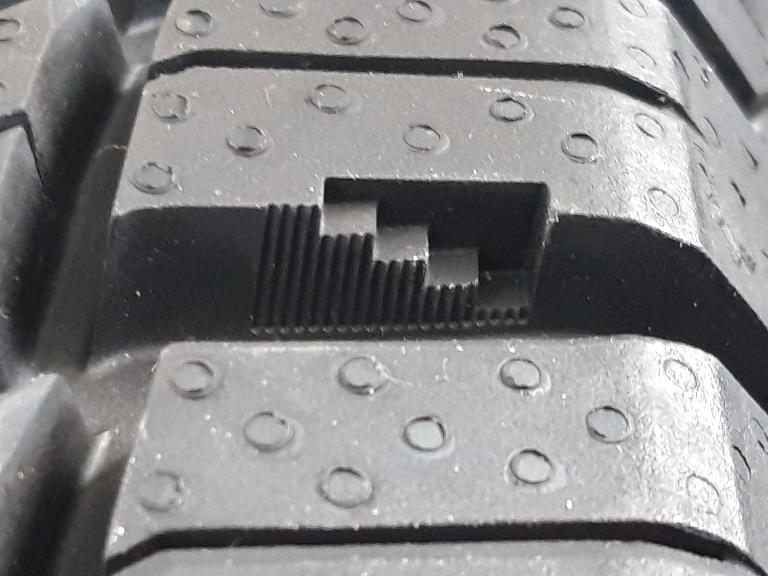temoin:100: (239, 165, 572, 352)
